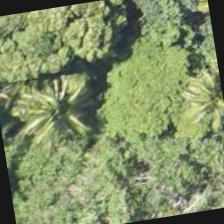Kelapa_Sawit: (0, 52, 96, 156)
